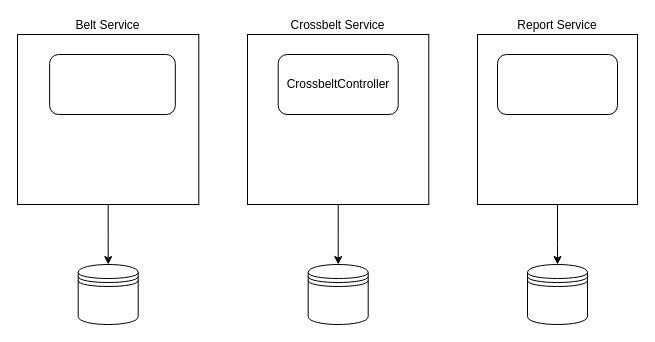
This 655x342 diagram has some shape labels left out. The centre of each missing label's shape, as x and y in pixels:
BeltController: point 112,84
ReportController: point 557,84
